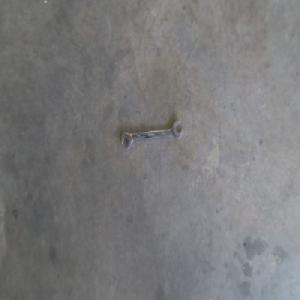Wrench: (122, 119, 187, 150)
